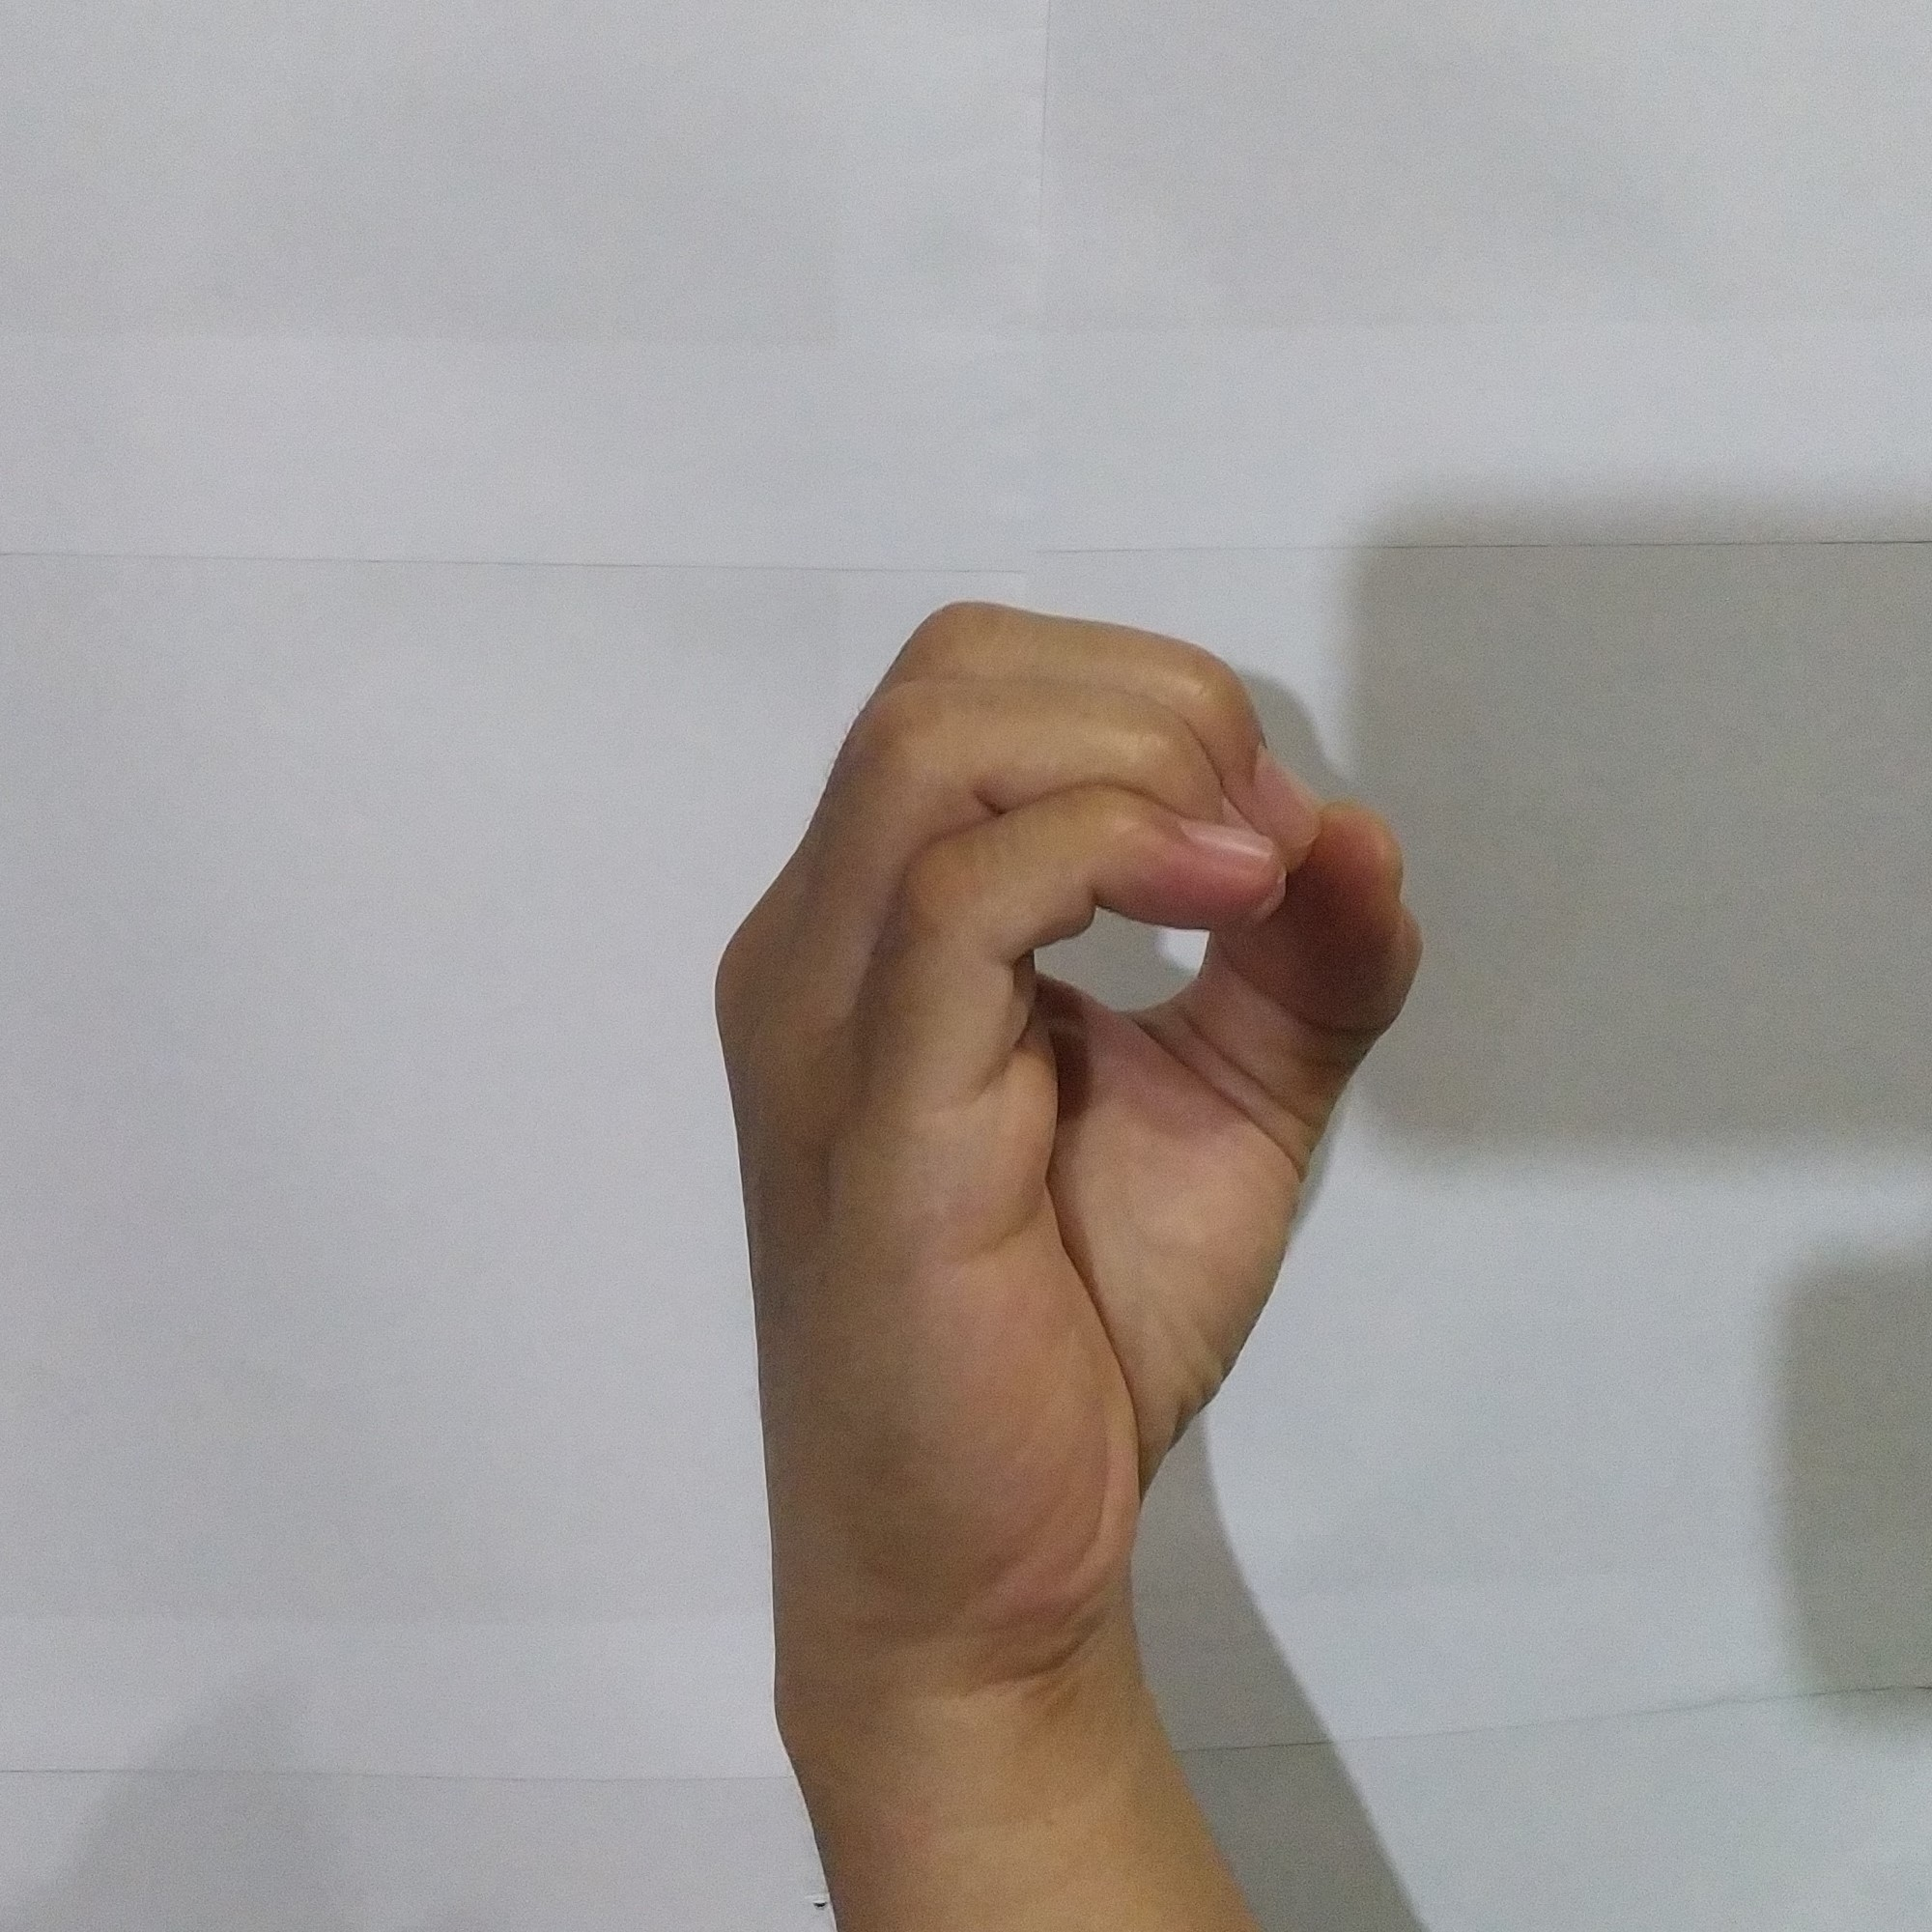O: (685, 568, 1453, 1651)
